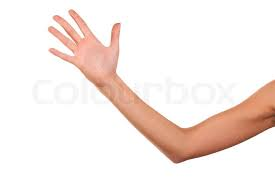hand: (32, 2, 151, 92)
